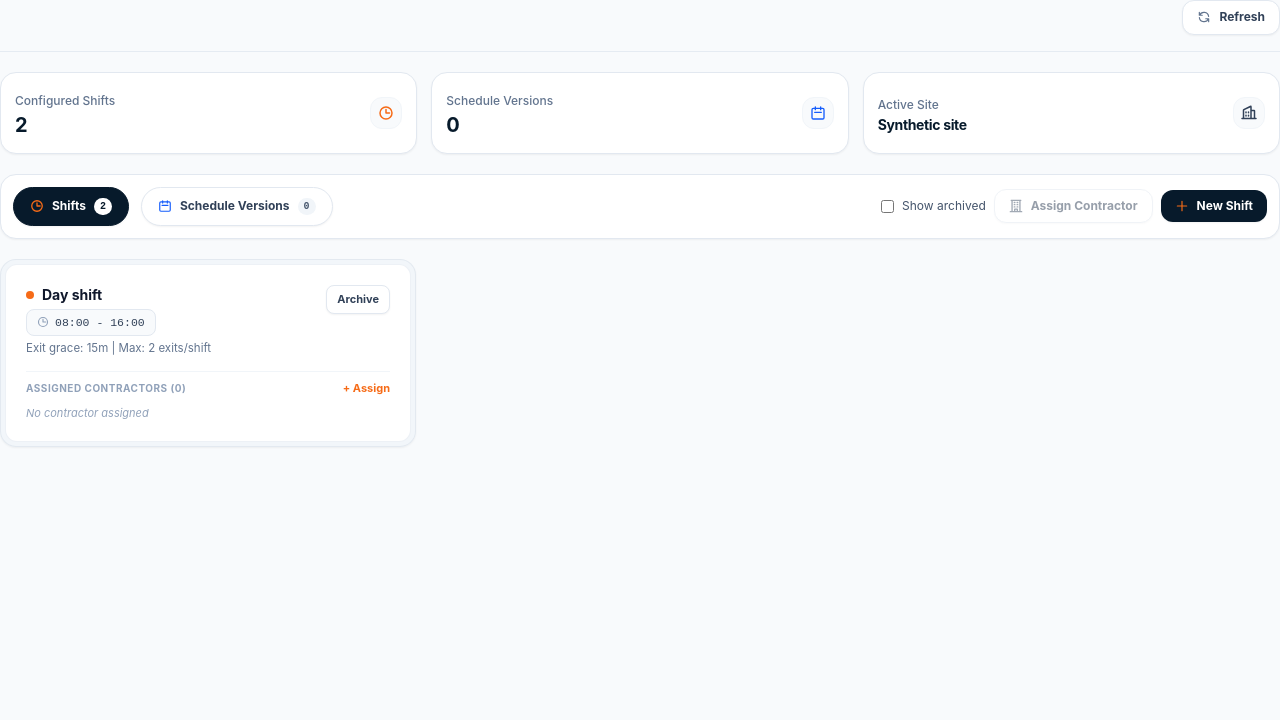
Test: keeps the confirmation available with an error when archival fails
The width and height of the screenshot is (1280, 720).
Click the button "Archive" at (358, 299), box [326,285,390,314]
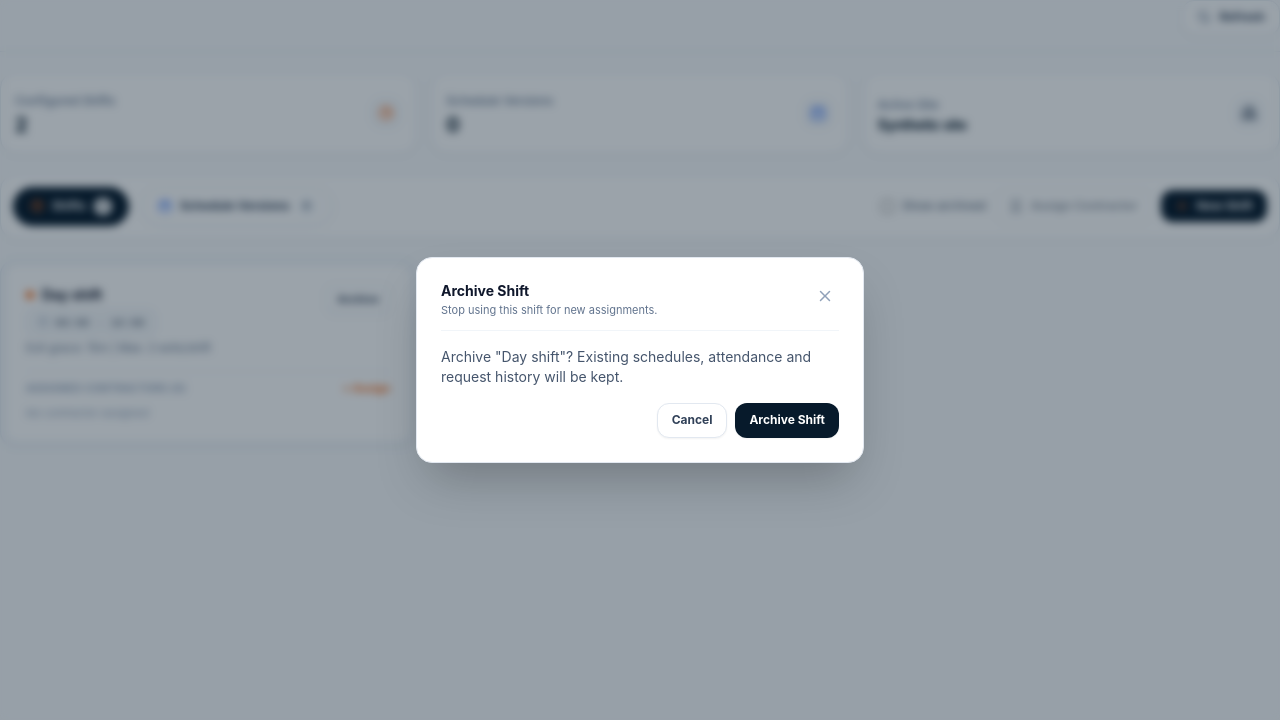
Click the button "Archive Shift" at (787, 421), box [735,403,839,438]
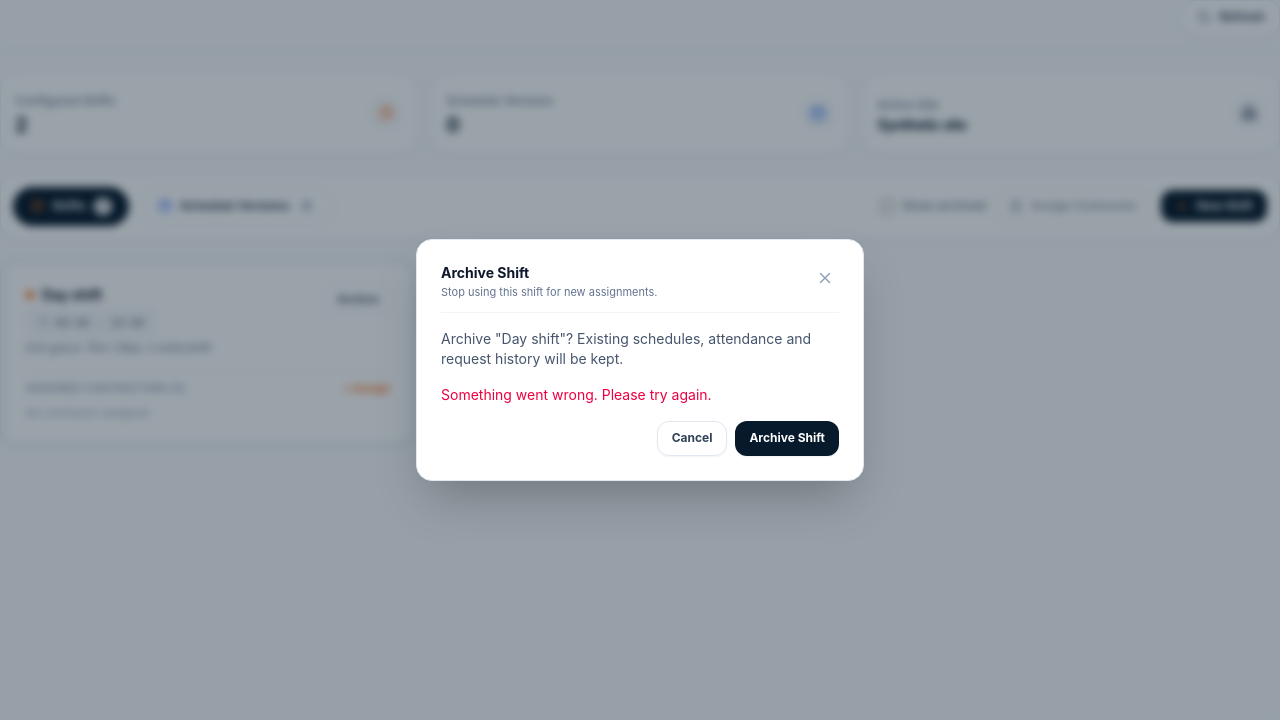
expect the button "Archive Shift" is shown: met, box [735,421,839,456]
expect the message reads "Something went wrong. Please try again.": met, box [441,386,712,403]
